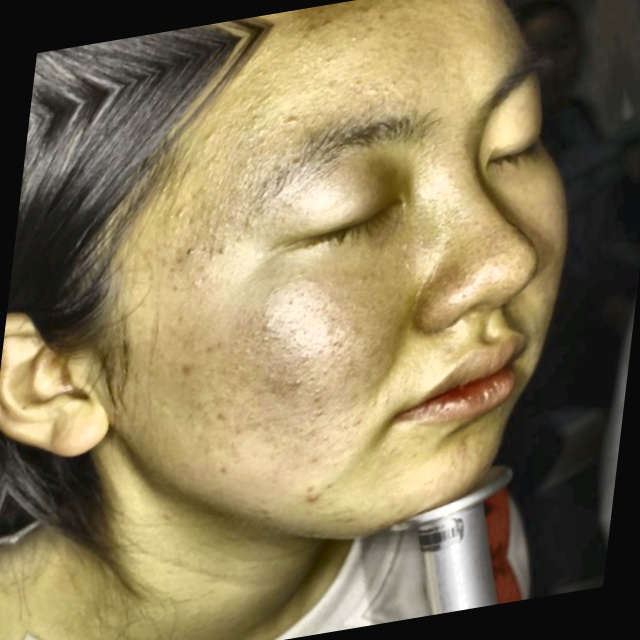comedone: (292, 479, 336, 522)
